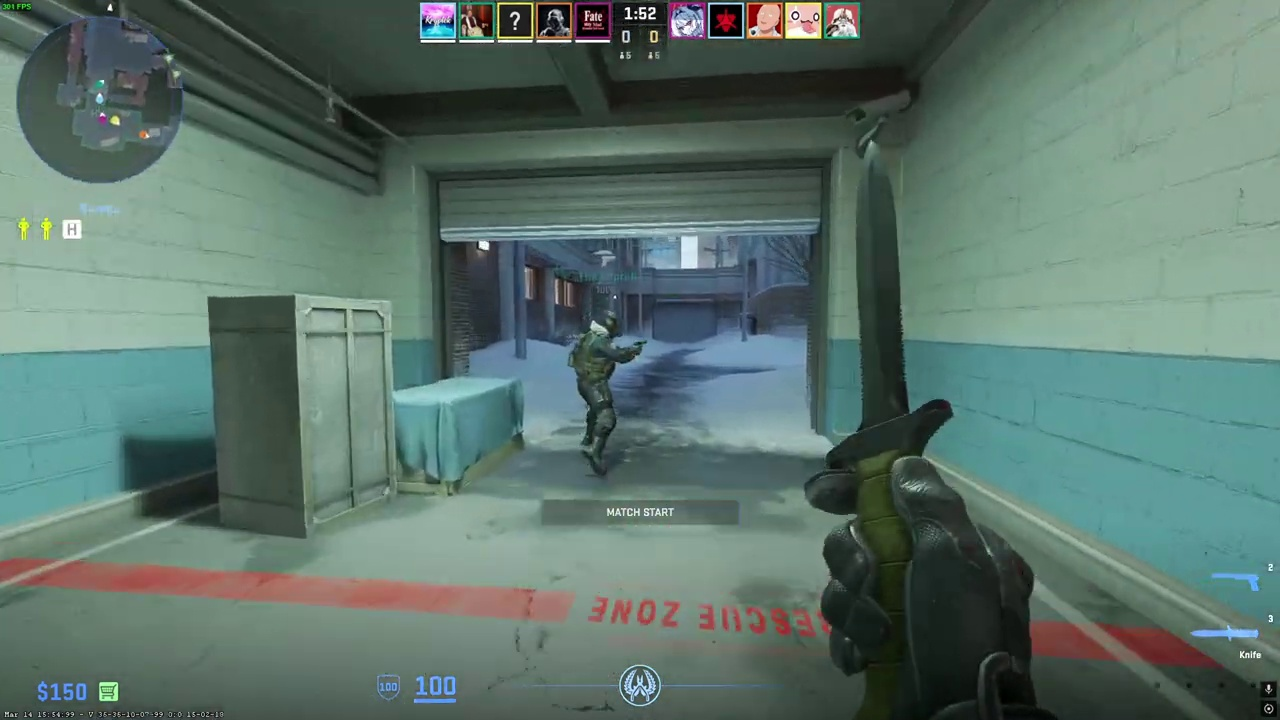CT: (568, 310, 632, 474)
